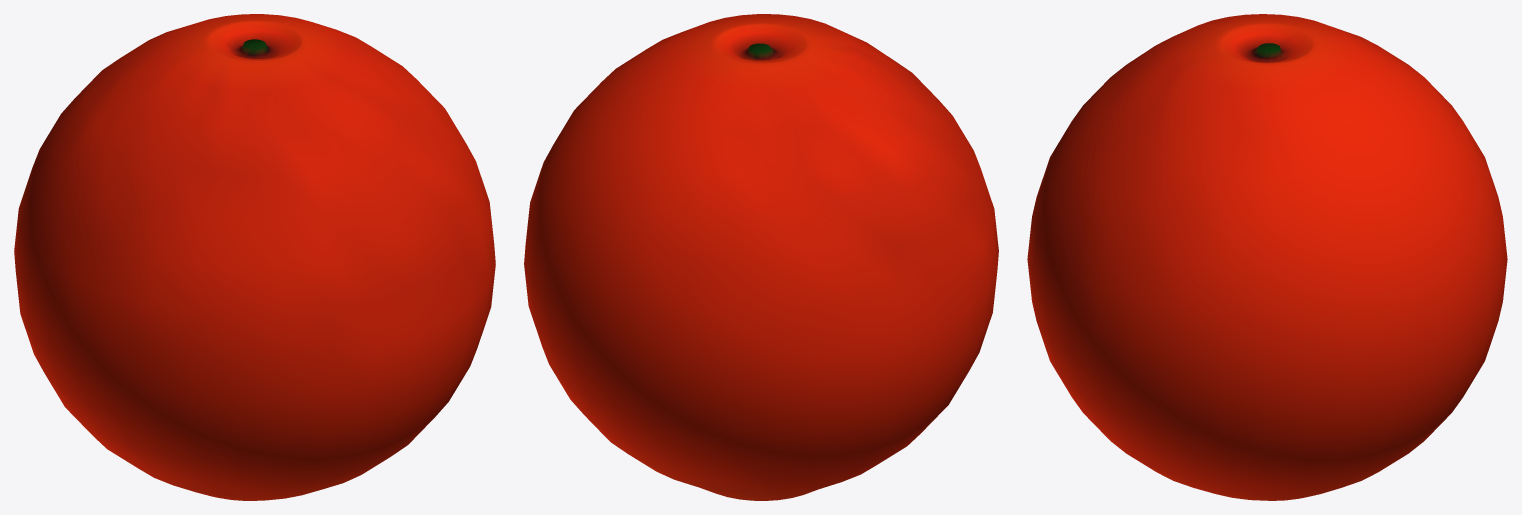
Rendered from orange.fbx.
The picture shows the model from 3 angles, left to right: view 1: azimuth 30°, elevation 25°; view 2: azimuth 150°, elevation 25°; view 3: azimuth 270°, elevation 25°; orthographic projection.
Visible parts, largest first — view 1: Sphere; view 2: Sphere; view 3: Sphere.
Part boxes in pixels (x1,y1,x2,y2): Sphere: [14, 14, 495, 500]; Sphere: [524, 14, 998, 500]; Sphere: [1027, 14, 1507, 500].
Size of the model in its own units: 198 by 198 by 198.
